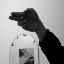h: (8, 7, 39, 33)
